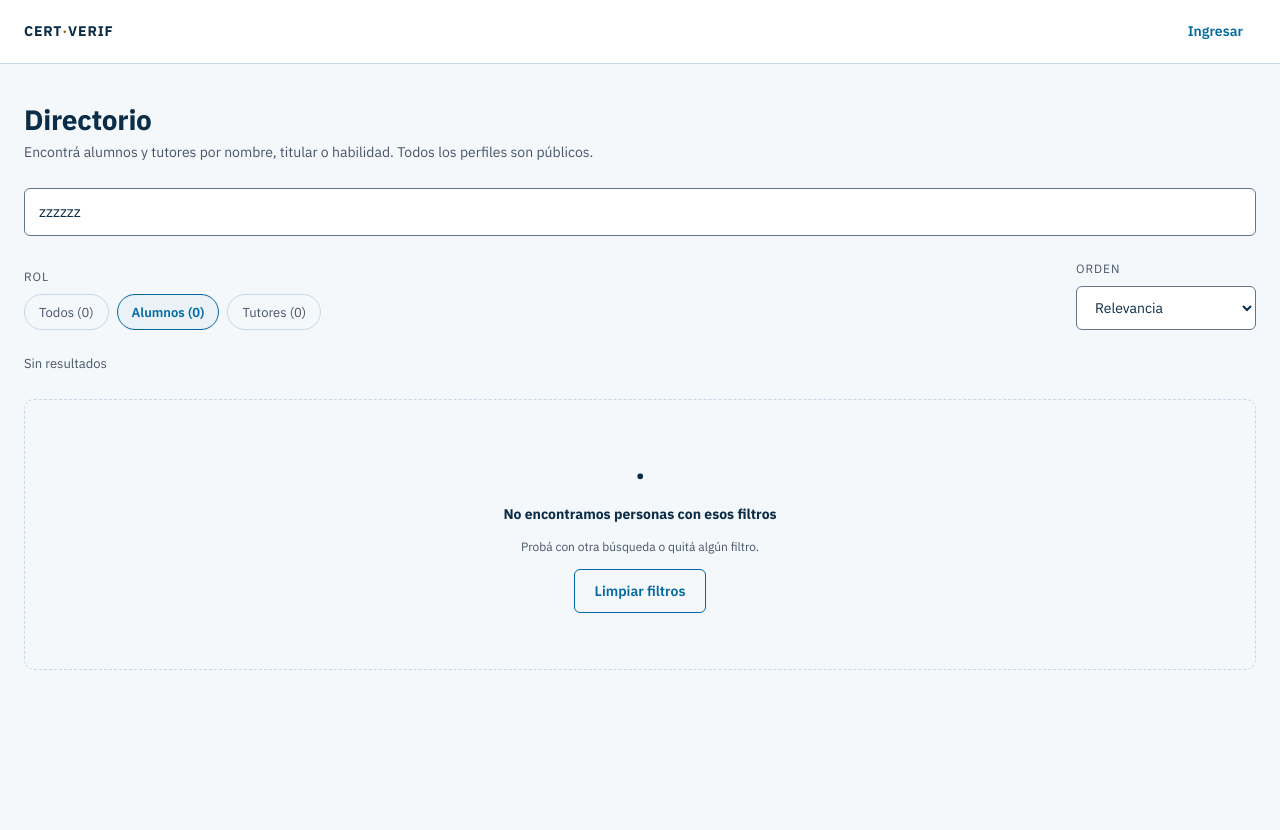
Scenario: Directorio › sin resultados: mensaje y Limpiar filtros
Expected: the text "No encontramos personas con esos filtros" is shown, [503,504,777,526]
Click the button "Limpiar filtros". click: (640,591)
box: [574,569,706,613]
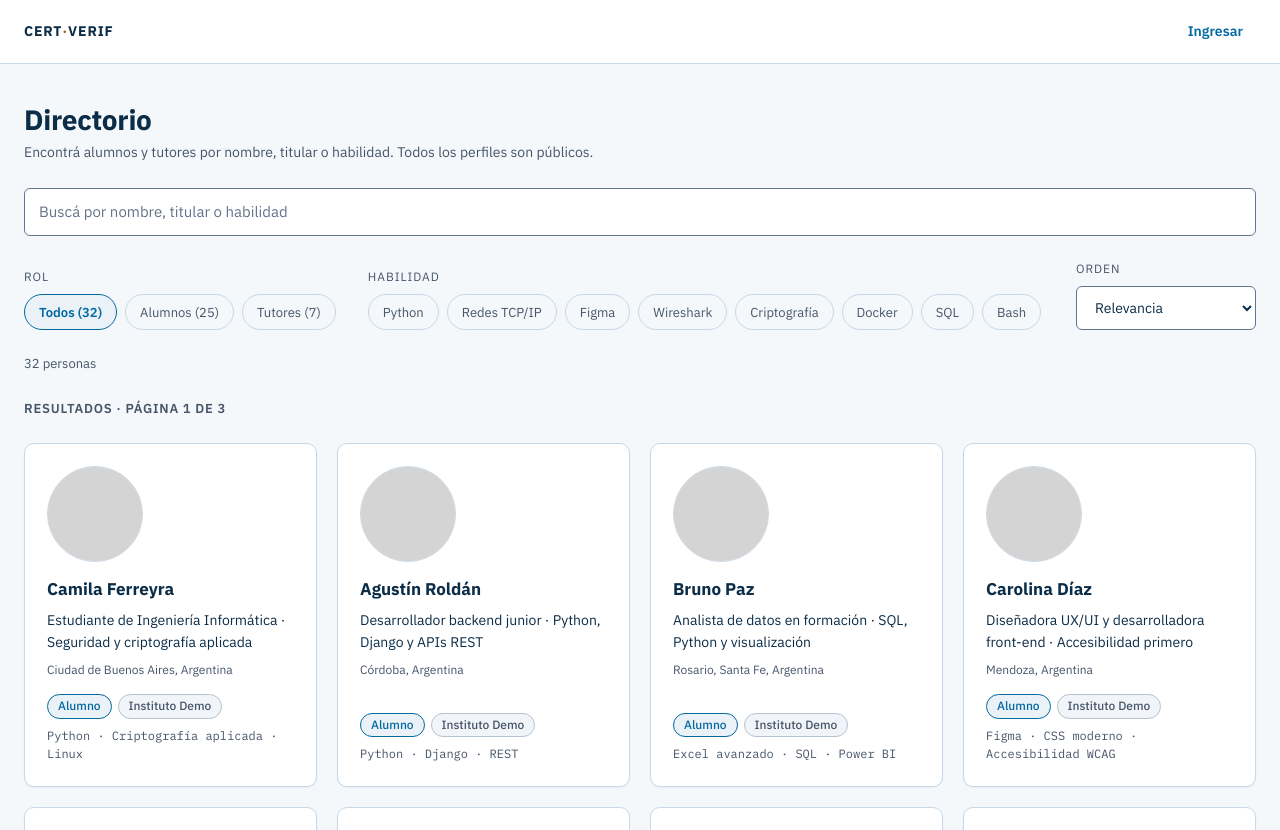
Expected: the number of list items is 12
Expected: the search field named "Buscar personas" is empty, [24,188,1256,236]
